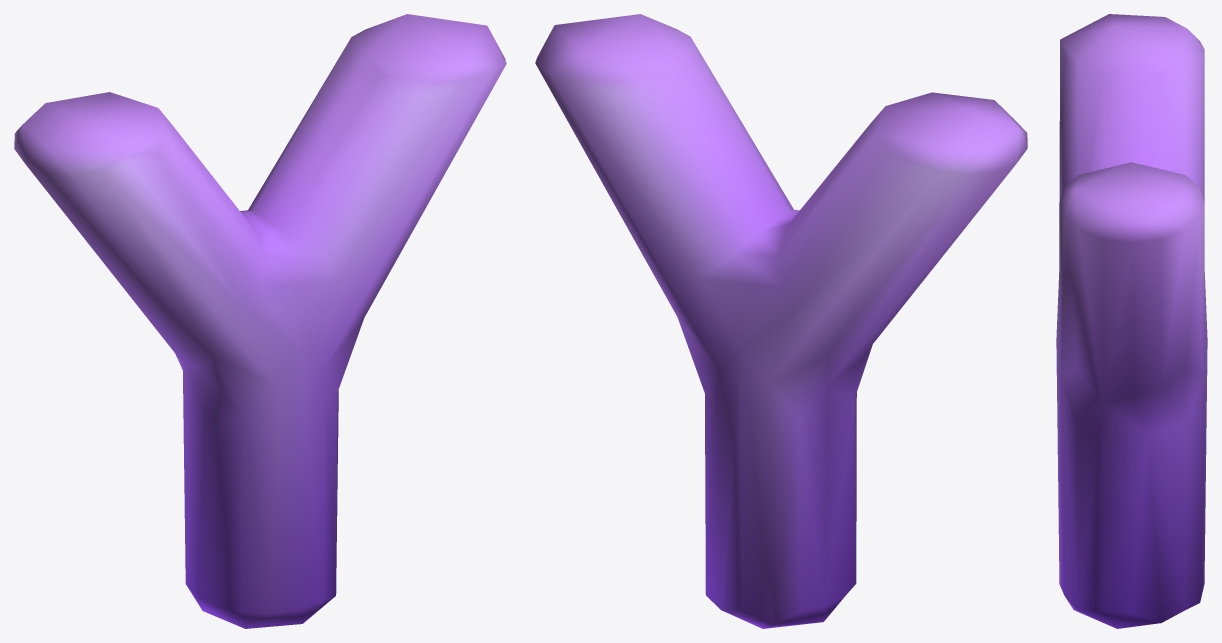
The picture shows the model from 3 angles, left to right: view 1: azimuth 30°, elevation 25°; view 2: azimuth 150°, elevation 25°; view 3: azimuth 270°, elevation 25°; orthographic projection. The views are drawn at different scales.
Visible parts, largest first — view 1: Processed_Mesh0_Geometry; view 2: Processed_Mesh0_Geometry; view 3: Processed_Mesh0_Geometry.
Boxes of the visible parts, x1,y1,x2,y2 form: Processed_Mesh0_Geometry: (14, 14, 506, 628); Processed_Mesh0_Geometry: (535, 14, 1027, 628); Processed_Mesh0_Geometry: (1056, 14, 1207, 628).
Size of what is drawn, in the model's own units: 0.0746 by 0.0826 by 0.0222.
1 material, 1 textured.
